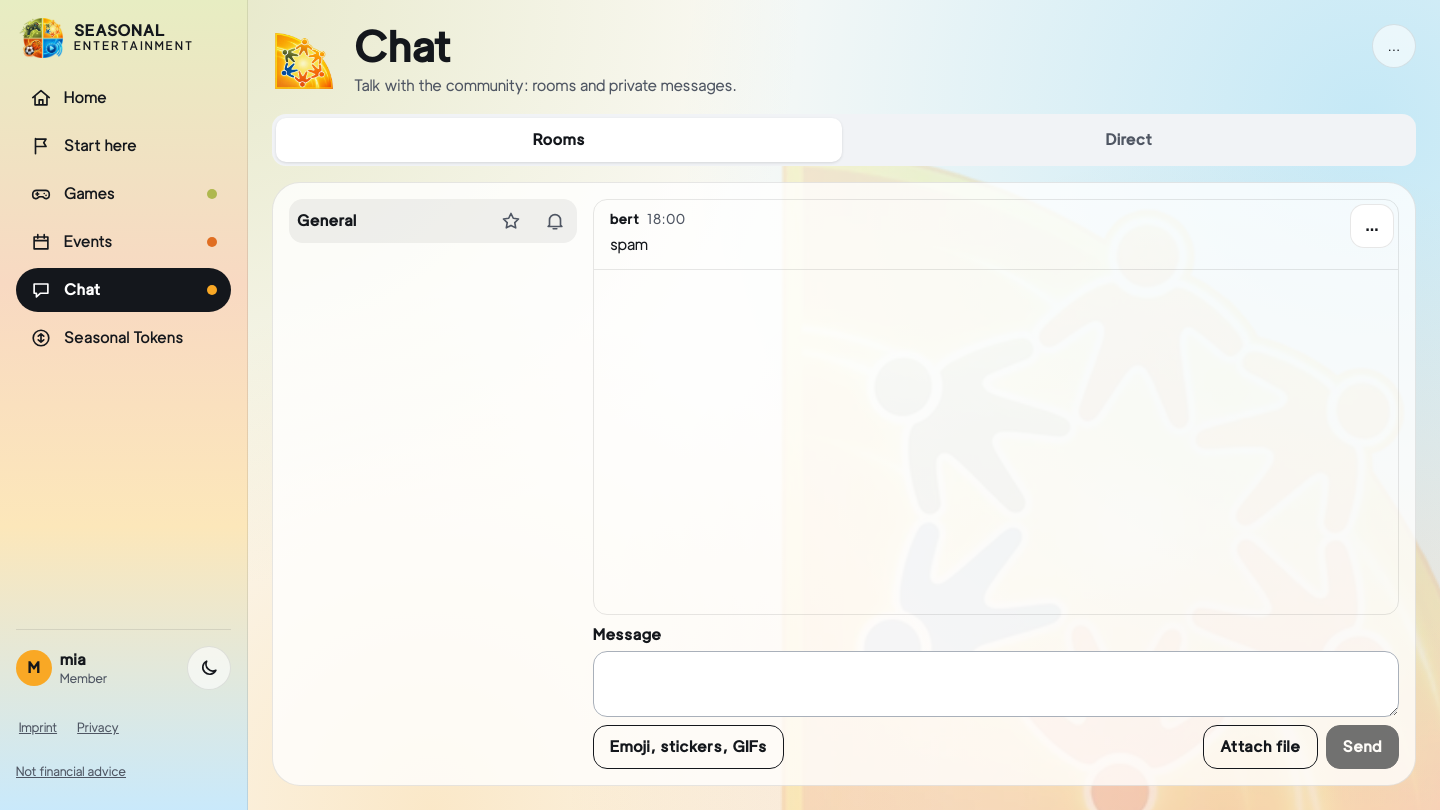
chat page › a member's "…" menu has Report only, and it reports
This screenshot has width=1440, height=810.
Click the button named "Actions for the message from": [1372, 226] box [1350,204,1394,248]
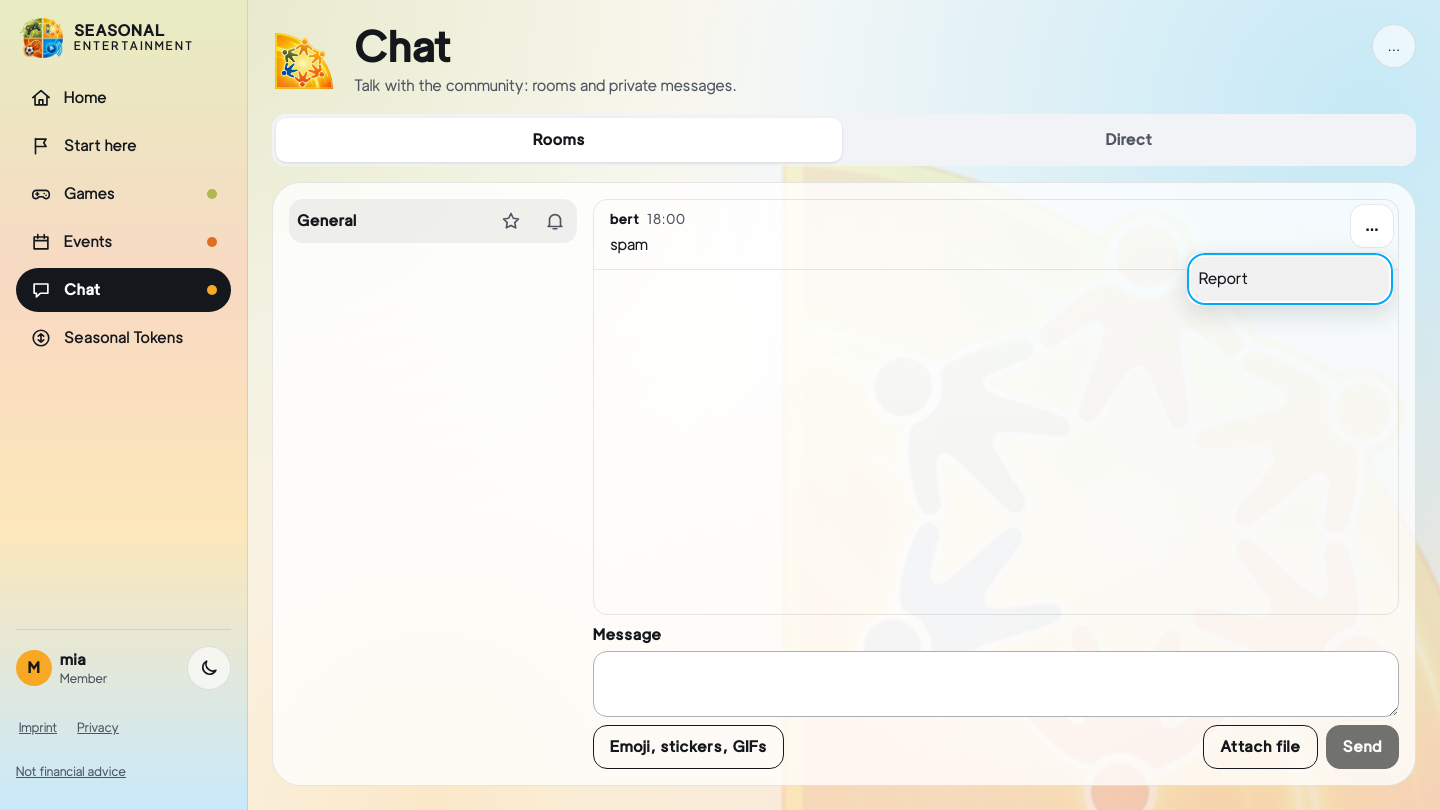
Expected: the menu items read "Report", in this order
Click the menu item "Report": [1290, 279] box [1191,257,1389,301]
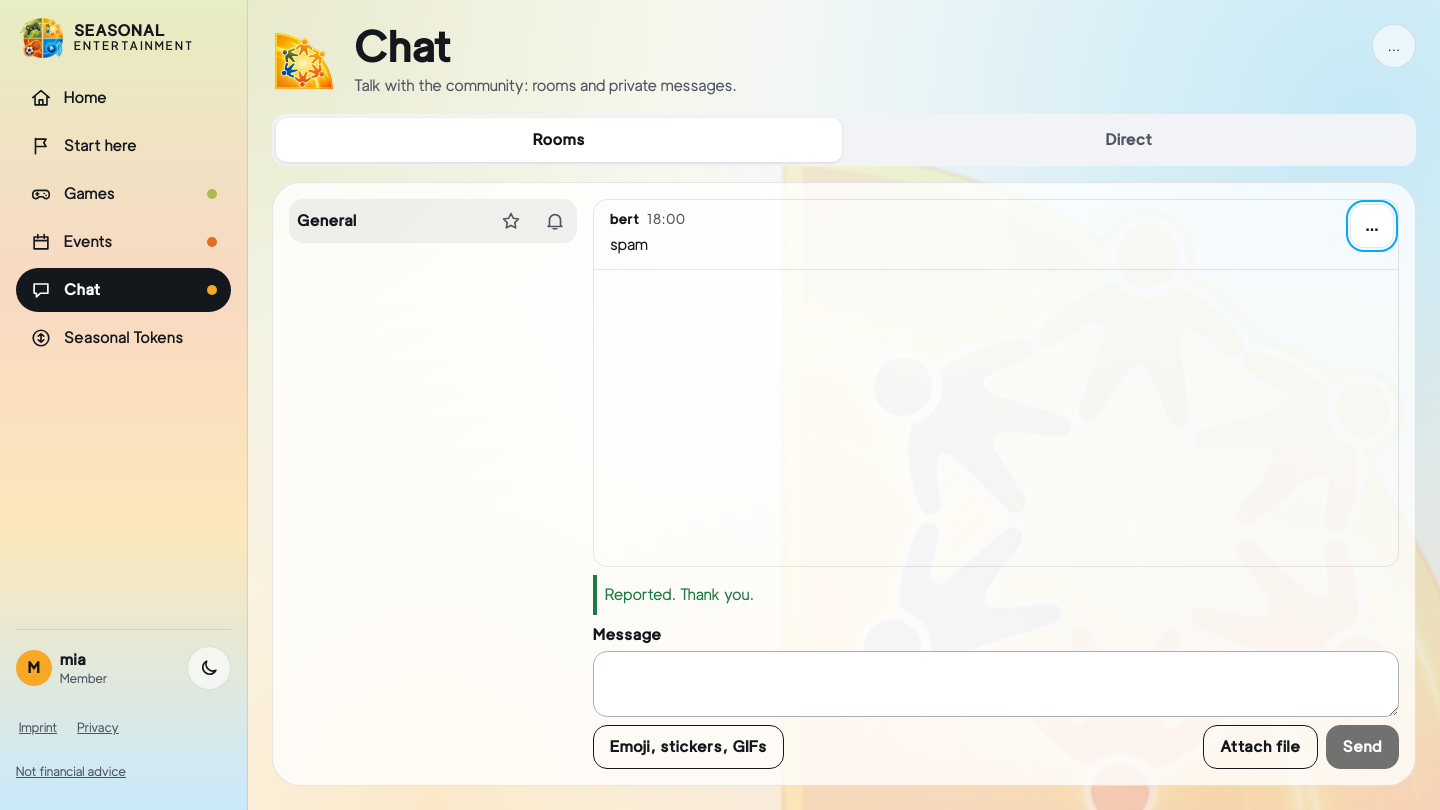
Expected: the text "Reported. Thank you." is shown, [593,575,1399,615]
